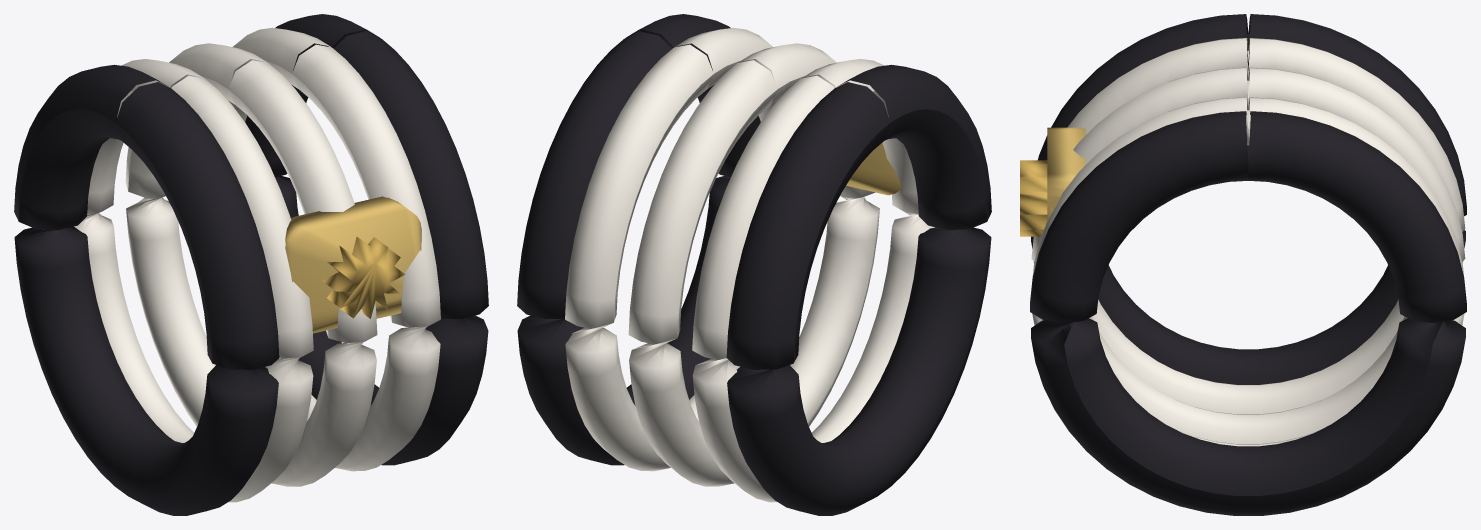
Rendered from prime_left_wrist_cuff.glb.
The picture shows the model from 3 angles, left to right: view 1: azimuth 30°, elevation 25°; view 2: azimuth 150°, elevation 25°; view 3: azimuth 270°, elevation 25°; orthographic projection. The views are drawn at different scales.
Parts seen in each view (by area): view 1: prime_left_wrist_cuff; view 2: prime_left_wrist_cuff; view 3: prime_left_wrist_cuff.
Part boxes in pixels (bbox=[...]): prime_left_wrist_cuff: bbox=[14, 14, 488, 515]; prime_left_wrist_cuff: bbox=[517, 14, 991, 515]; prime_left_wrist_cuff: bbox=[1020, 14, 1466, 515].
Size of the model in its own units: 0.094 by 0.1368 by 0.1399.
